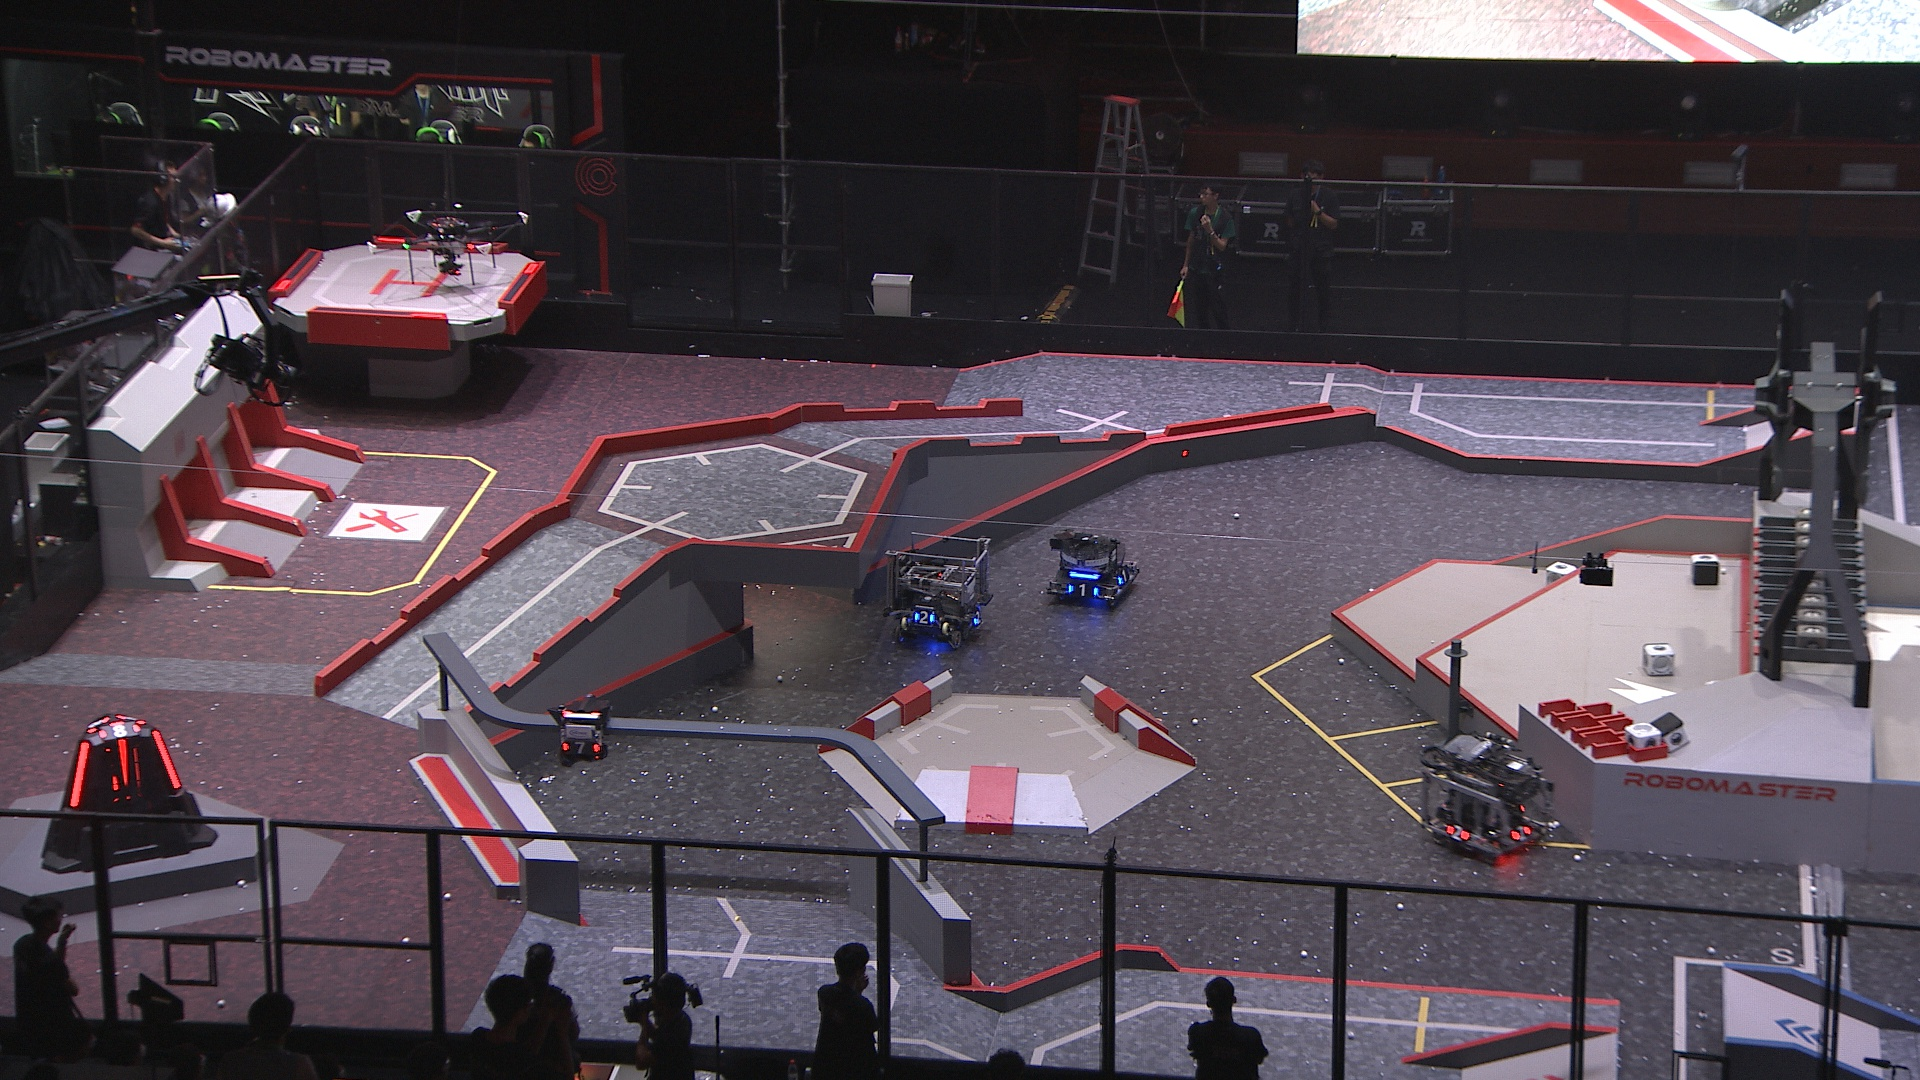armor: (152, 728, 183, 789), (69, 738, 92, 808), (113, 740, 133, 787), (560, 738, 603, 756), (98, 723, 141, 738), (1443, 823, 1470, 845), (1065, 582, 1100, 599), (1509, 823, 1534, 844), (911, 609, 939, 626), (1116, 566, 1133, 588), (971, 608, 984, 626)
base: (40, 711, 218, 876)
car: (1415, 732, 1557, 865), (882, 531, 988, 647), (1044, 529, 1145, 612)
watcher: (550, 694, 613, 769)
